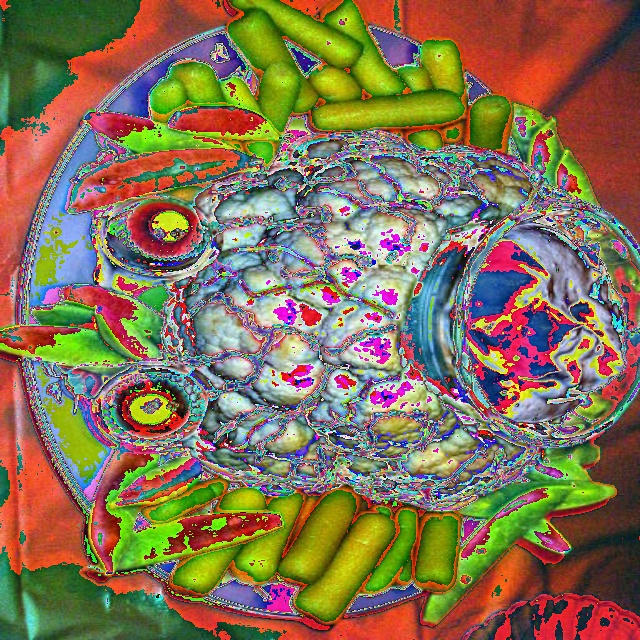background: (0, 0, 619, 629), (160, 202, 628, 423)
